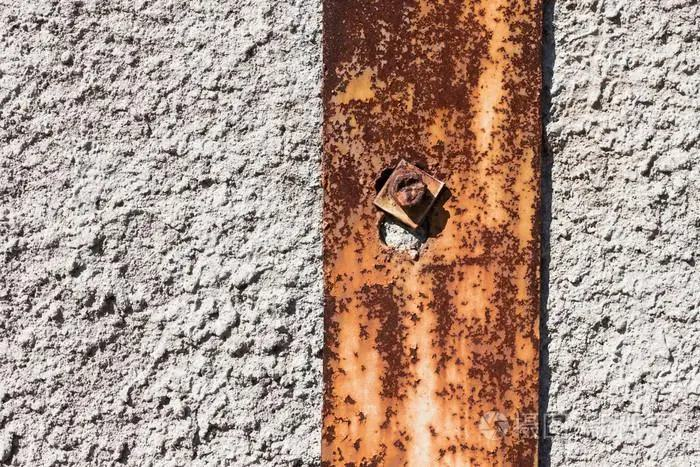Corrosion: (320, 1, 540, 467)
